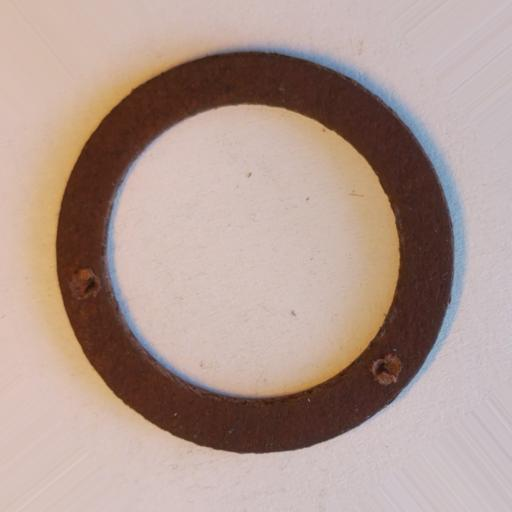defect: (69, 268, 102, 301), (370, 354, 402, 385)
